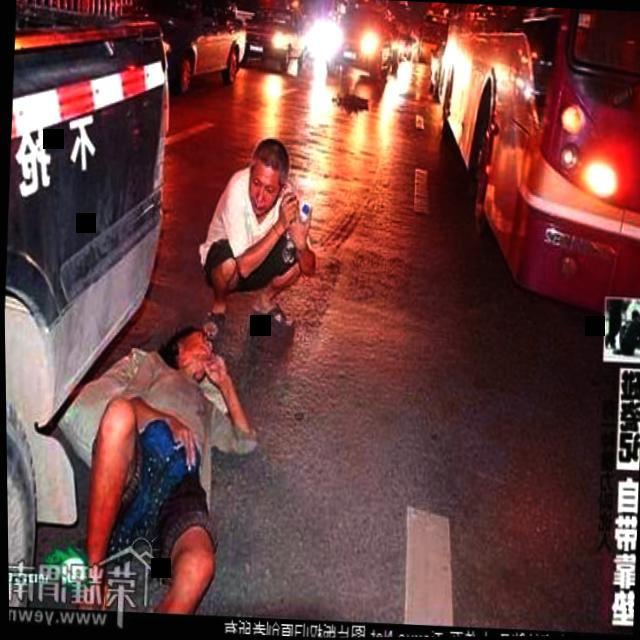Fall-Detected: (55, 302, 274, 611)
